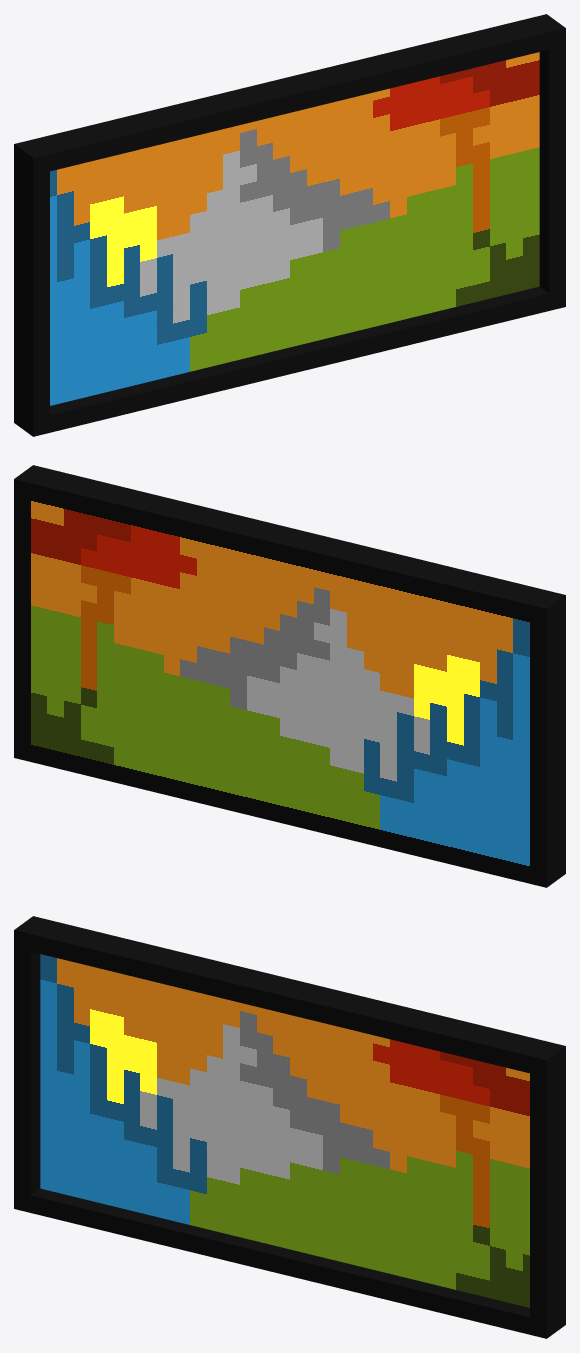
File: Ekran.dae
The picture shows the model from 3 angles, top to bottom: view 1: azimuth 30°, elevation 25°; view 2: azimuth 150°, elevation 25°; view 3: azimuth 330°, elevation 25°; orthographic projection.
Visible parts, largest first — view 1: Ekran; view 2: Ekran; view 3: Ekran.
Boxes of the visible parts, x1,y1,x2,y2 form: Ekran: (14,14,565,436); Ekran: (14,465,565,887); Ekran: (14,916,565,1338).
Size of the model in its own units: 32 by 16 by 2.
Materials: 1 (1 with a texture image).
